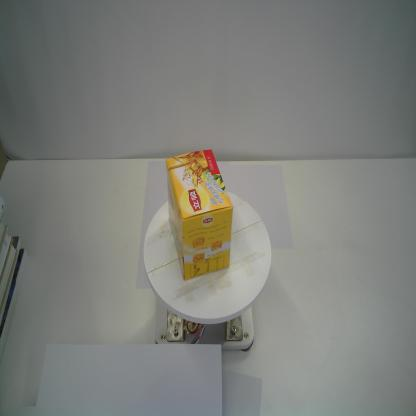Instant Drink: (166, 148, 233, 281)
